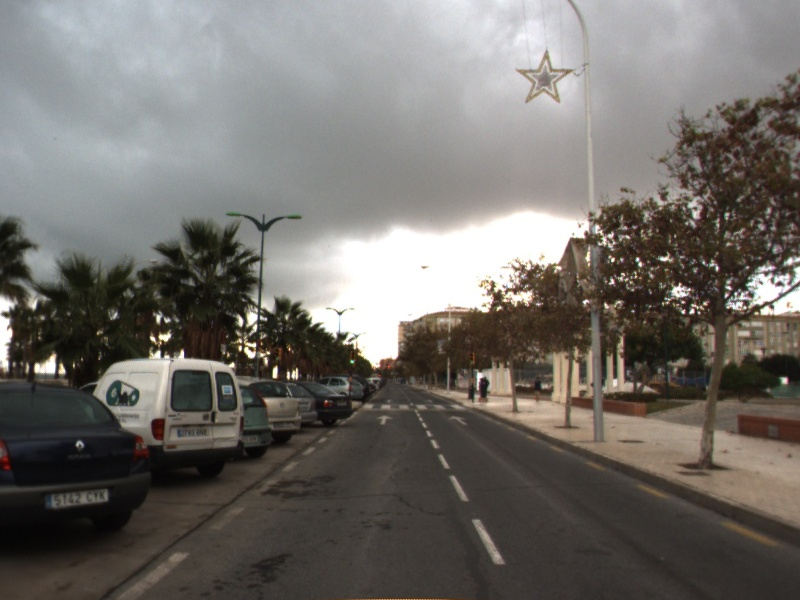STRAIGHT: (447, 413, 470, 427), (374, 413, 396, 426)
